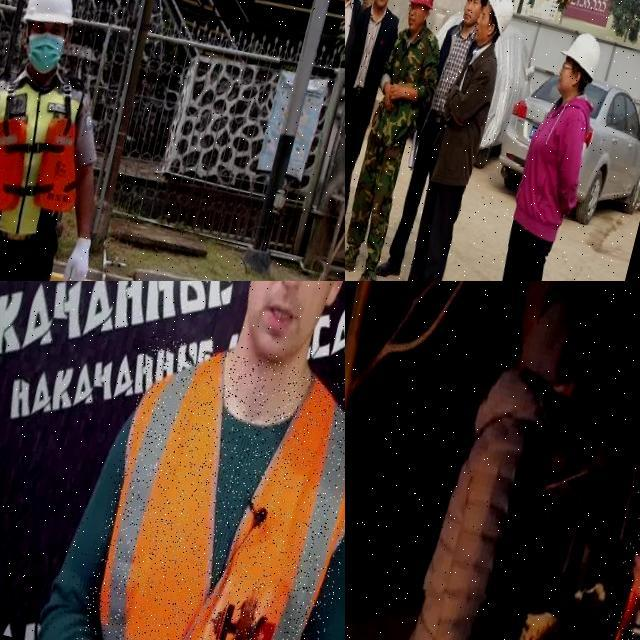boots: (374, 253, 404, 280), (351, 261, 378, 281), (345, 245, 359, 274)
helmet: (552, 28, 606, 85), (17, 0, 81, 31), (480, 0, 520, 39), (407, 0, 439, 10)
vest: (72, 331, 345, 640), (0, 70, 106, 255), (584, 470, 640, 640)
